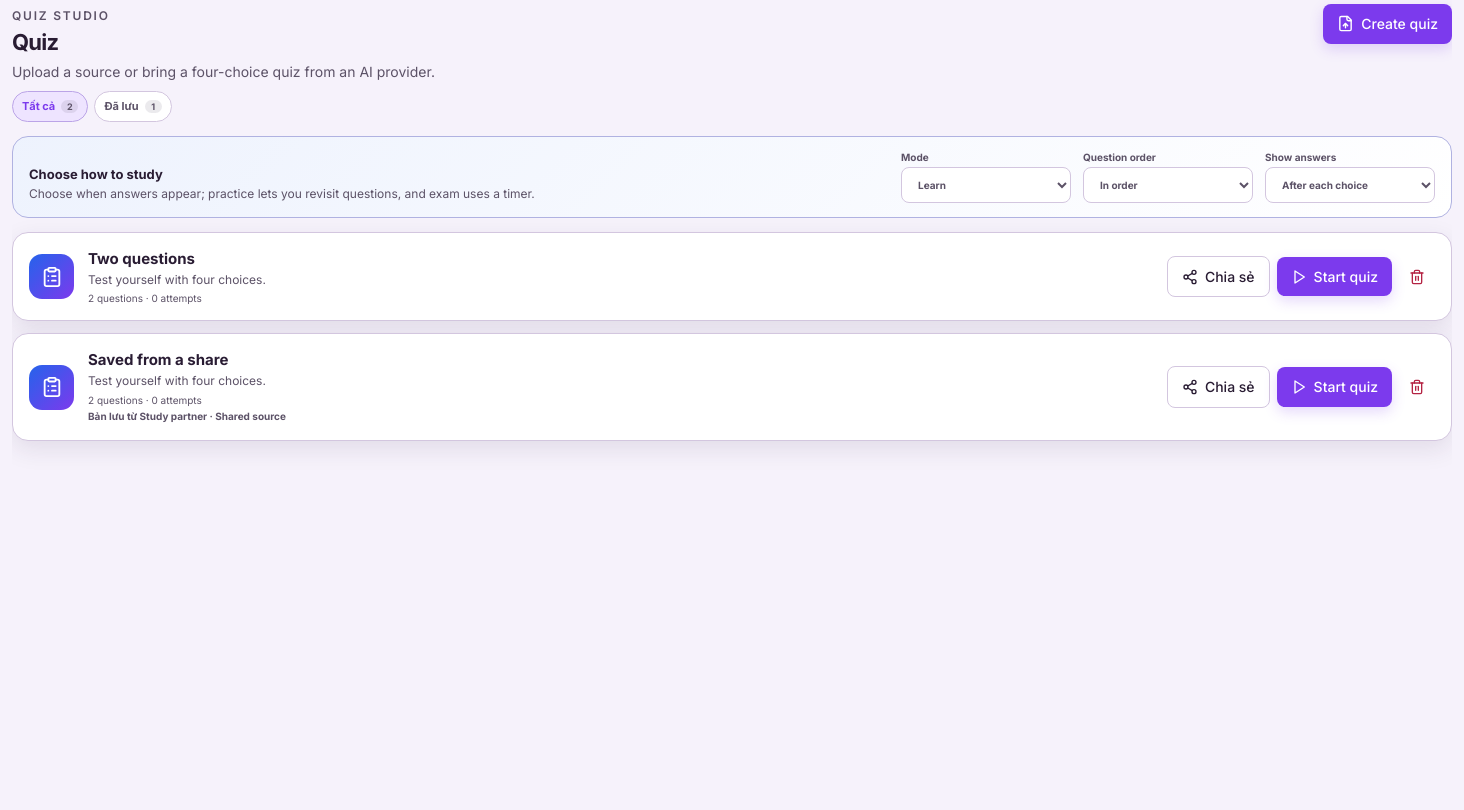
Test case: keeps answers hidden and editable until submission in delayed mode
Select "After submission" in the dropdown labelled "Show answers" at point(1350, 185), box [1265,167,1435,203]
Click the button "Start quiz" in the row of "Two questions" at point(1334, 277), box [1277,257,1392,296]
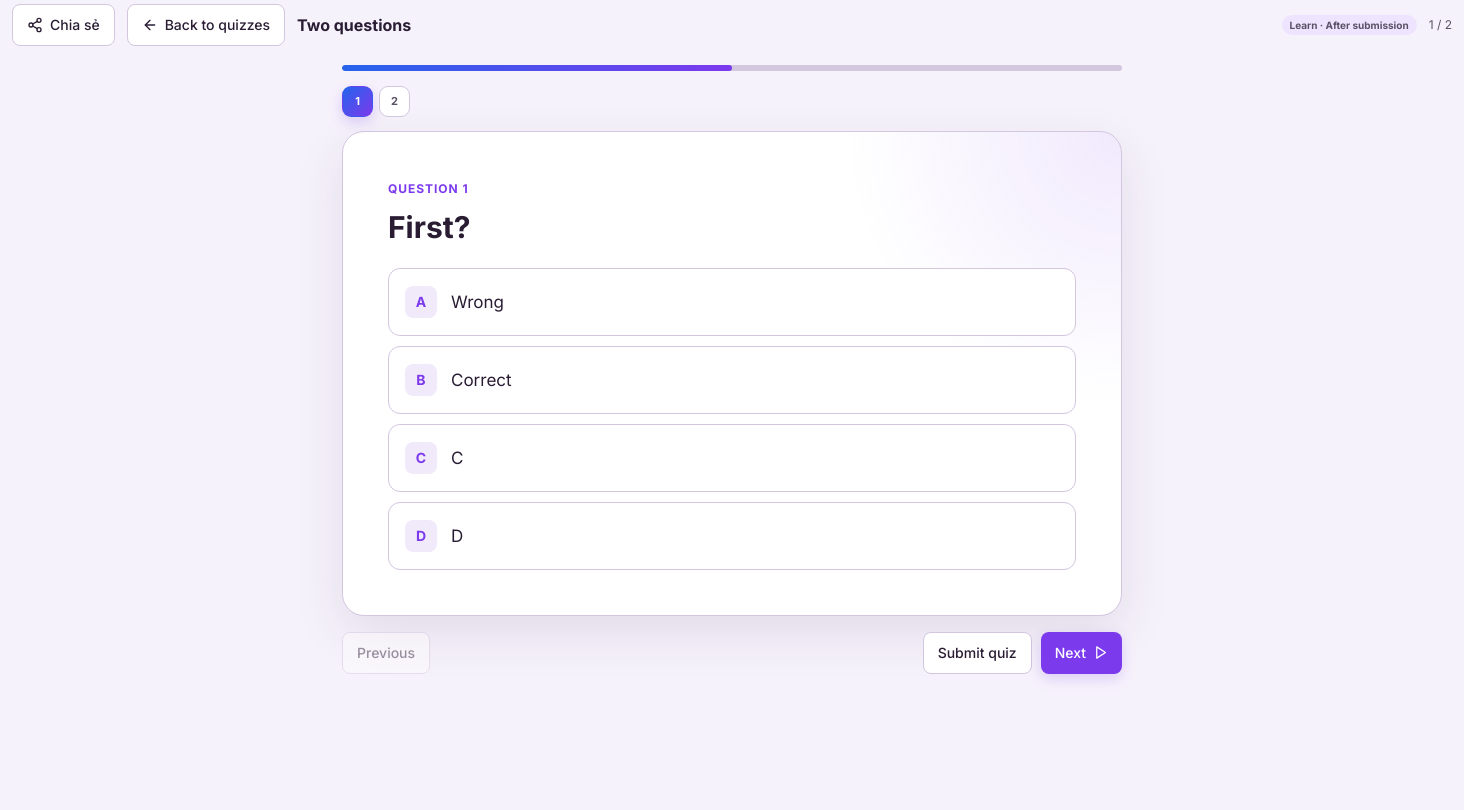
Click the button "A Wrong" at point(421, 302), box [388,268,1076,336]
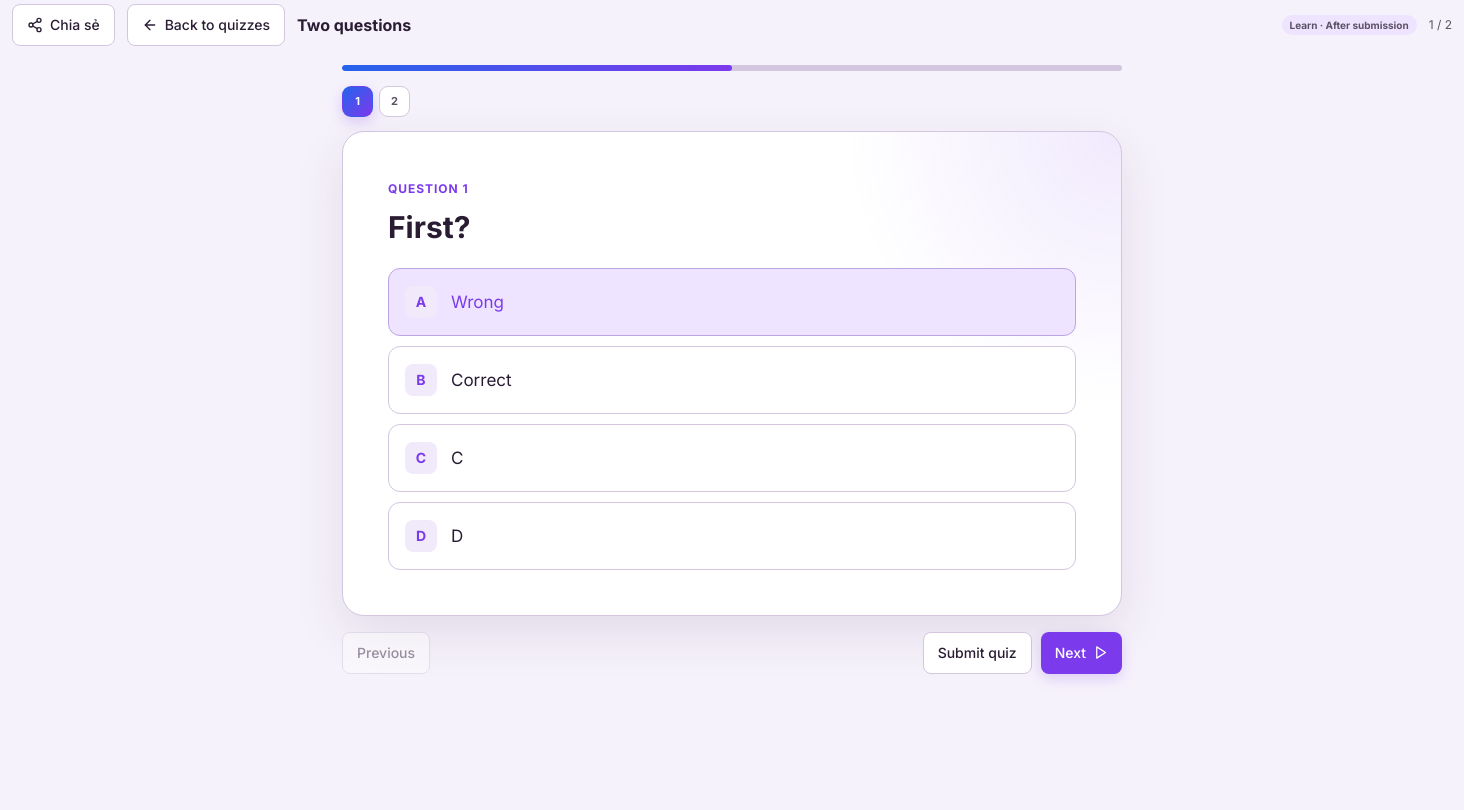
Click the button "B Correct" at point(421, 380), box [388,346,1076,414]
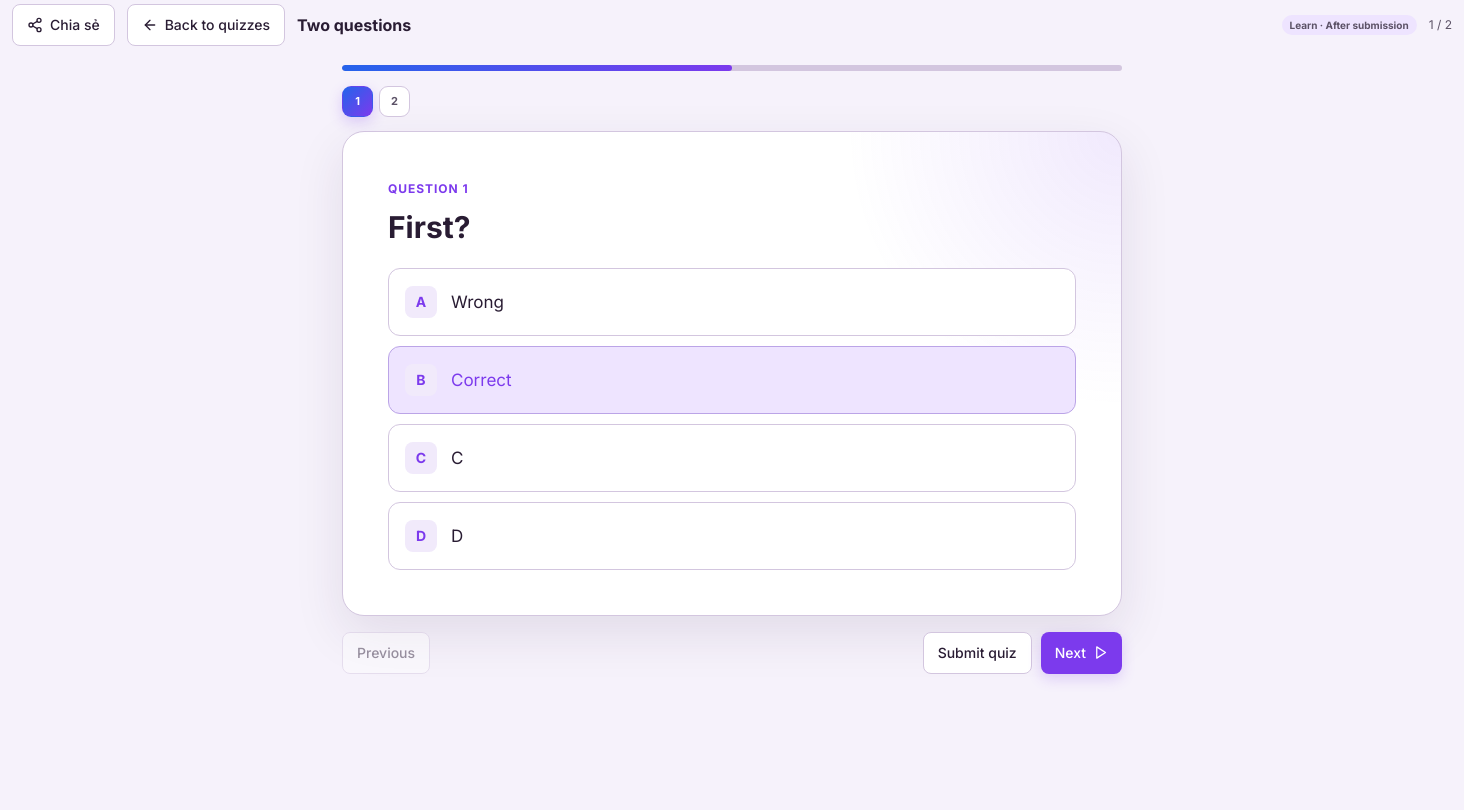
Click the button "Next" at point(1081, 653), box [1041,632,1122,674]
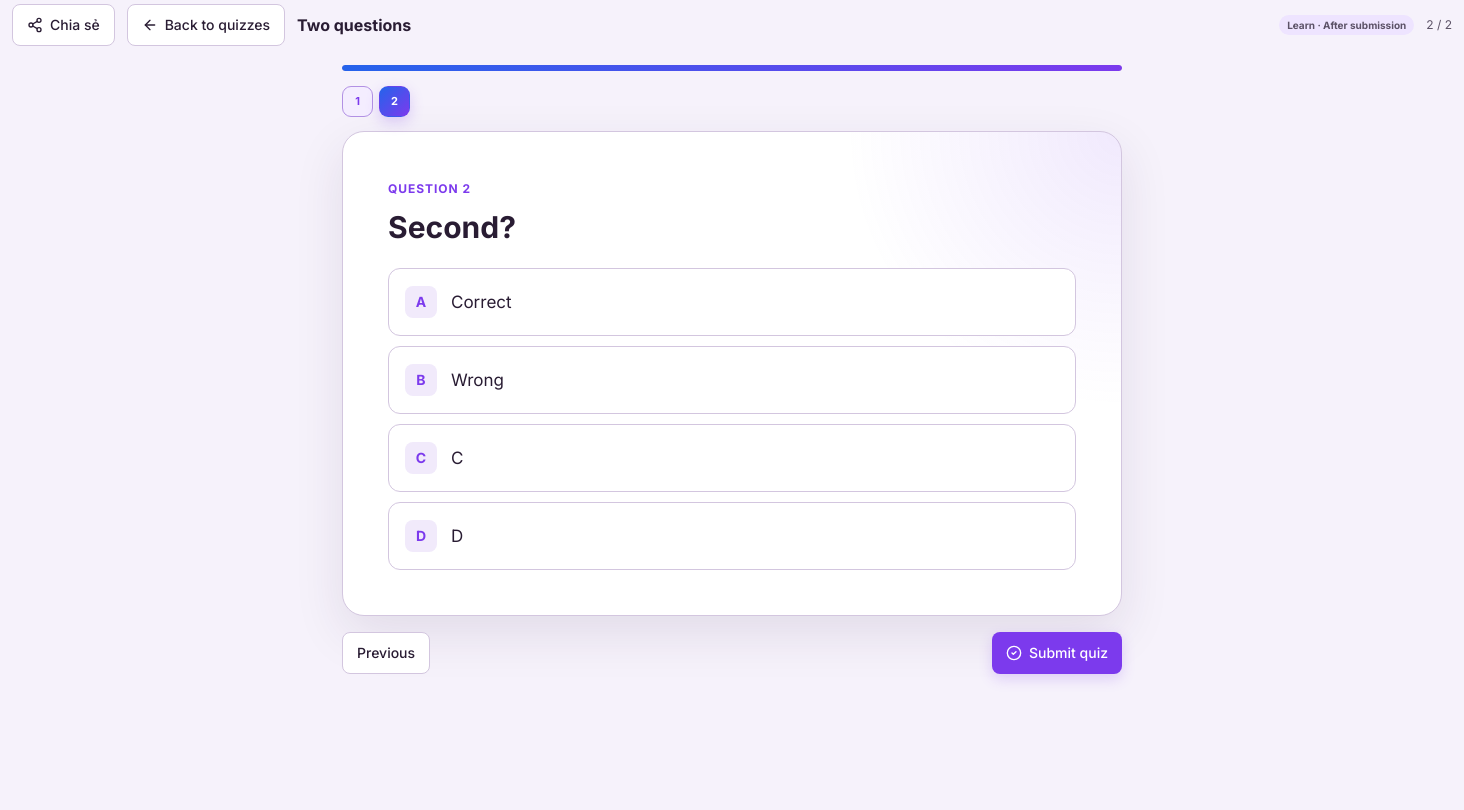
Click the button "A Correct" at point(421, 302), box [388,268,1076,336]
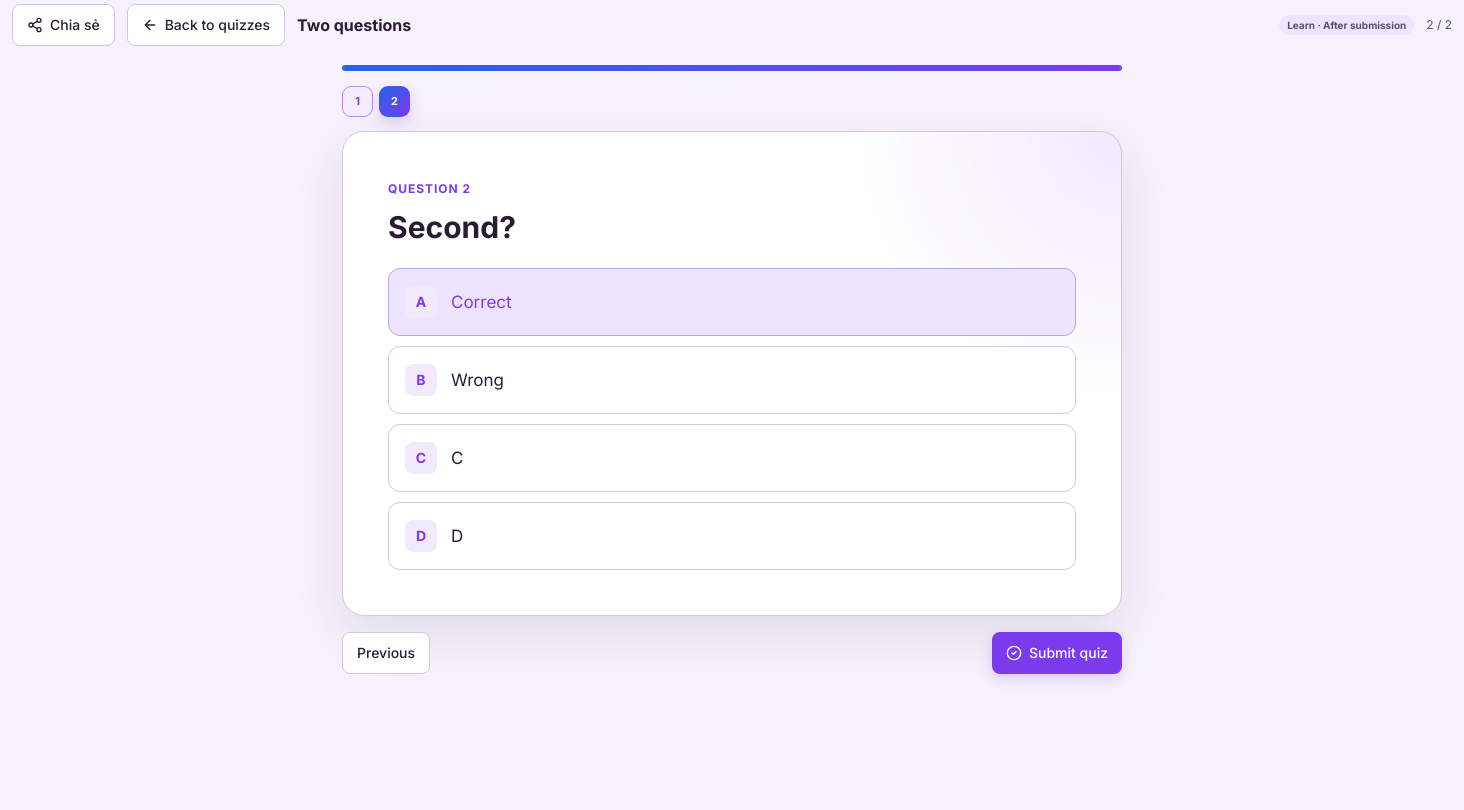
Click the button "Submit quiz" at point(1057, 653), box [992,632,1122,674]
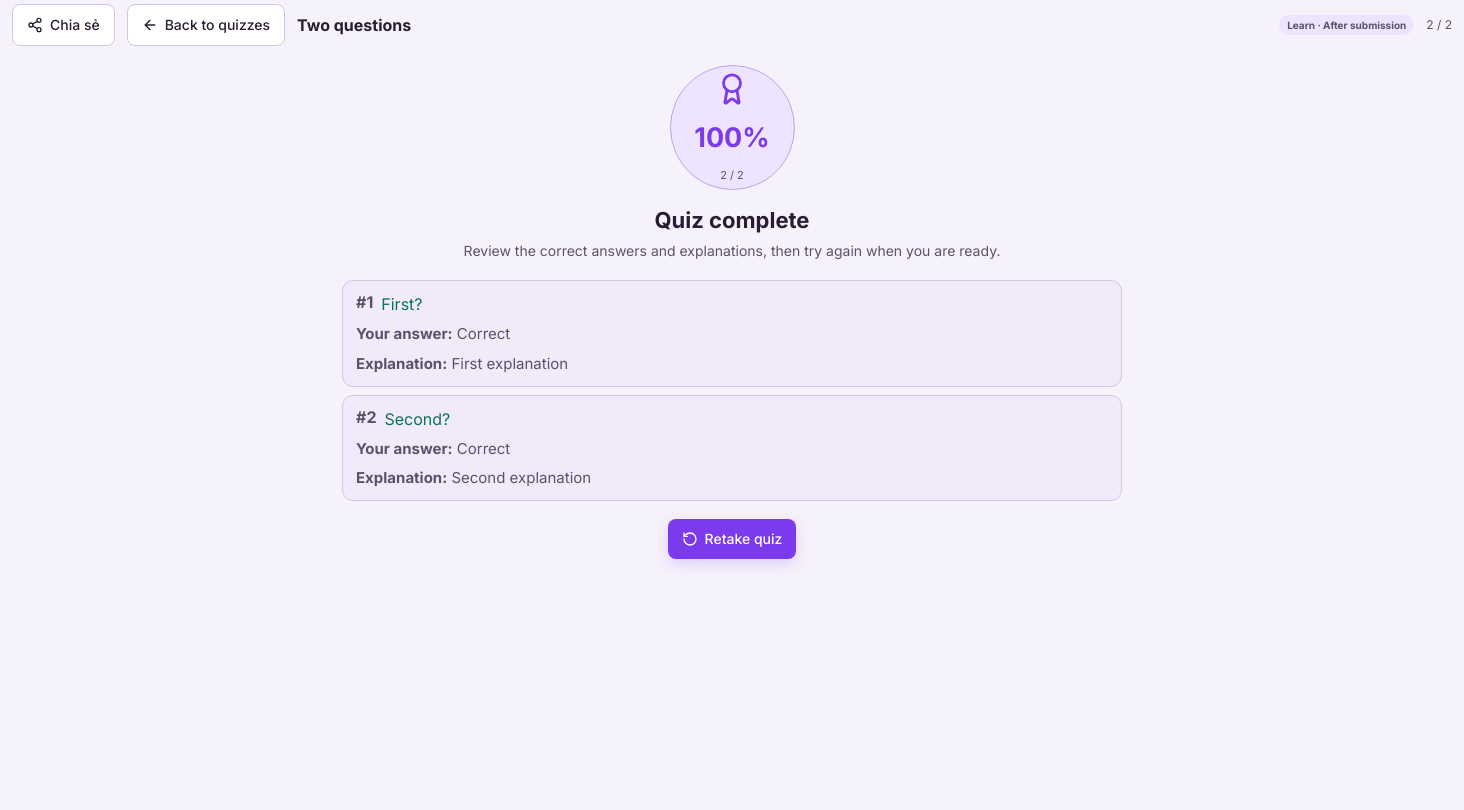
Check: the element that starts with "First?" shows "First explanation", box [451,354,568,373]
